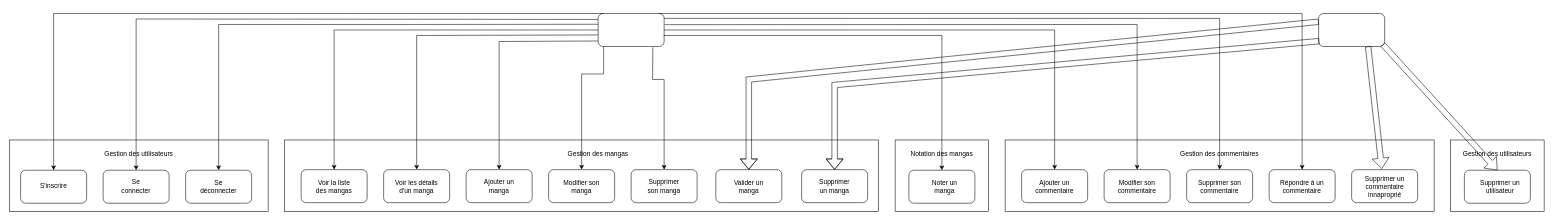
Image size: 1554x221. Some labels were removed from this diagram. Here are the shapes that lost their labels. From the top down, the centre of each, then its label:
pixel 631 29: Utilisateur
pixel 1351 29: Administrateur
